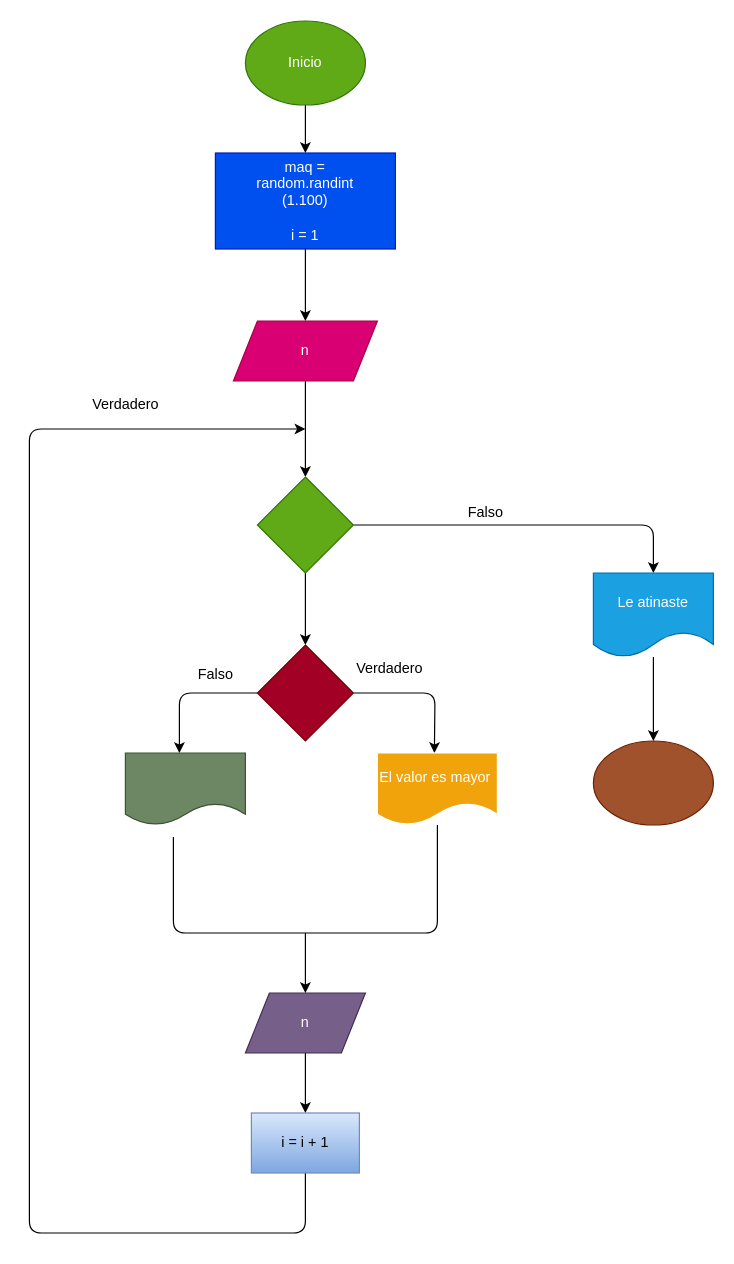
This 734x1264 diagram has some shape labels left out. Each missing label, with the centre of its shape:
"El valor es menor" goes at (x=184, y=788).
"Fin" goes at (x=652, y=782).
"n != maq" goes at (x=304, y=524).
"n < maq" goes at (x=304, y=692).
